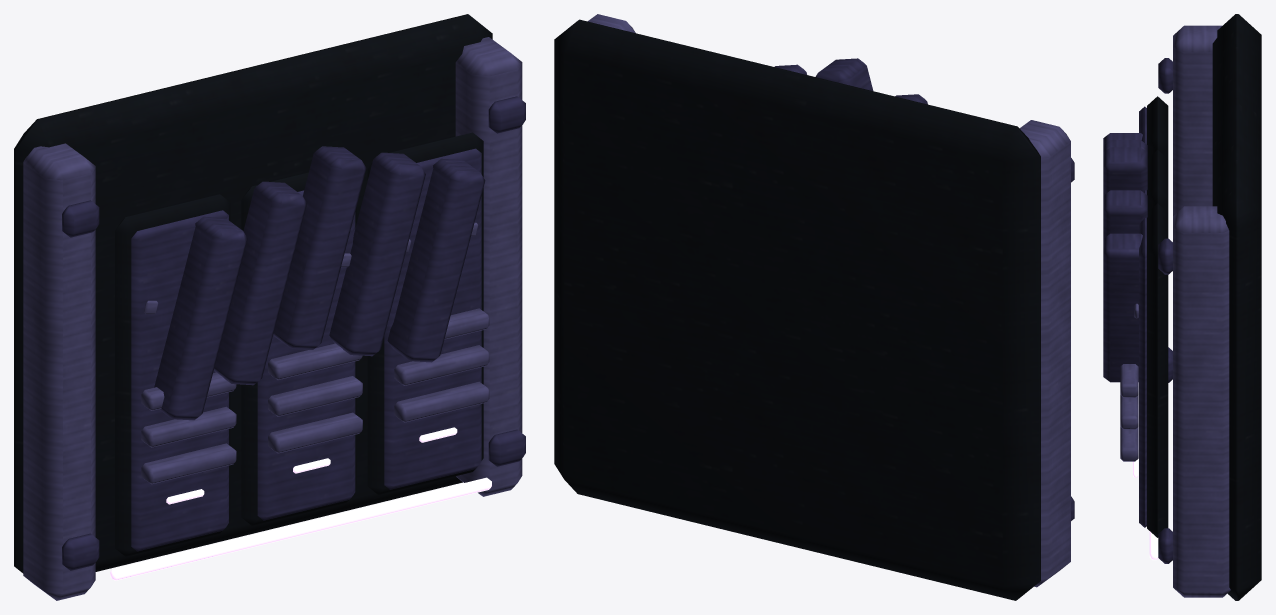
Rendered from orbital_array_fixture.glb.
3 views of the same model, side by side, from view 1: azimuth 30°, elevation 25°; view 2: azimuth 150°, elevation 25°; view 3: azimuth 270°, elevation 25° (orthographic). The views are drawn at different scales.
Visible parts, largest first — view 1: orbital_array_fixture - orbital_array panels, orbital_array_fixture - Recessed iron, orbital_array_fixture - orbital_array trim, orbital_array_fixture - orbital_array accents; view 2: orbital_array_fixture - Recessed iron, orbital_array_fixture - orbital_array trim, orbital_array_fixture - orbital_array panels; view 3: orbital_array_fixture - orbital_array trim, orbital_array_fixture - Recessed iron, orbital_array_fixture - orbital_array panels, orbital_array_fixture - orbital_array accents.
Boxes of the visible parts, x1,y1,x2,y2 form: orbital_array_fixture - orbital_array panels: (62,96,525,570); orbital_array_fixture - Recessed iron: (14,14,492,573); orbital_array_fixture - orbital_array trim: (23,37,522,600); orbital_array_fixture - orbital_array accents: (110,427,491,580); orbital_array_fixture - Recessed iron: (554,19,1040,600); orbital_array_fixture - orbital_array trim: (588,14,1070,587); orbital_array_fixture - orbital_array panels: (774,58,1074,520); orbital_array_fixture - orbital_array trim: (1120,25,1230,597); orbital_array_fixture - Recessed iron: (1147,14,1261,600); orbital_array_fixture - orbital_array panels: (1103,58,1172,563); orbital_array_fixture - orbital_array accents: (1133,459,1158,560).
Size of the model in its own units: 3.13 by 2.92 by 1.03.
4 materials, 3 textured.
